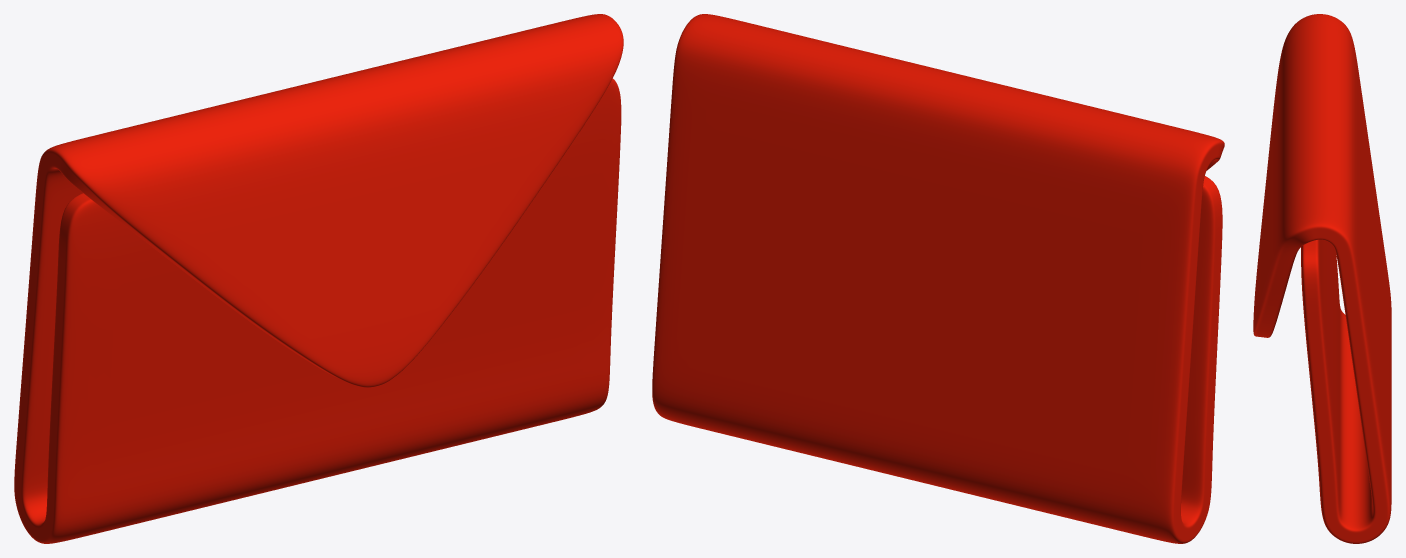
The model's file is mail.glb.
3 views of the same model, side by side, from view 1: azimuth 30°, elevation 25°; view 2: azimuth 150°, elevation 25°; view 3: azimuth 270°, elevation 25° (orthographic). The views are drawn at different scales.
Visible parts, largest first — view 1: Mail; view 2: Mail; view 3: Mail.
Part boxes in pixels (<box>): Mail: <box>14,14,623,543</box>; Mail: <box>652,14,1224,543</box>; Mail: <box>1253,14,1391,543</box>.
Bounding box in the file's own units: 1.96 × 1.38 × 0.5383.
